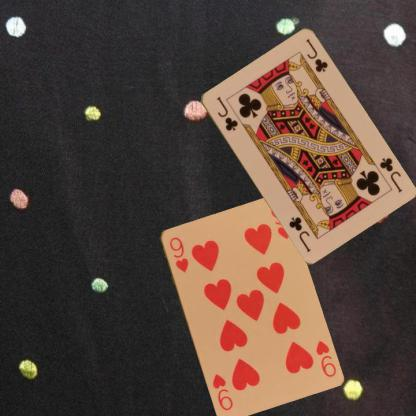9h: (312, 337, 337, 378), (166, 234, 190, 274)
Jc: (376, 155, 403, 194), (213, 94, 239, 132)
